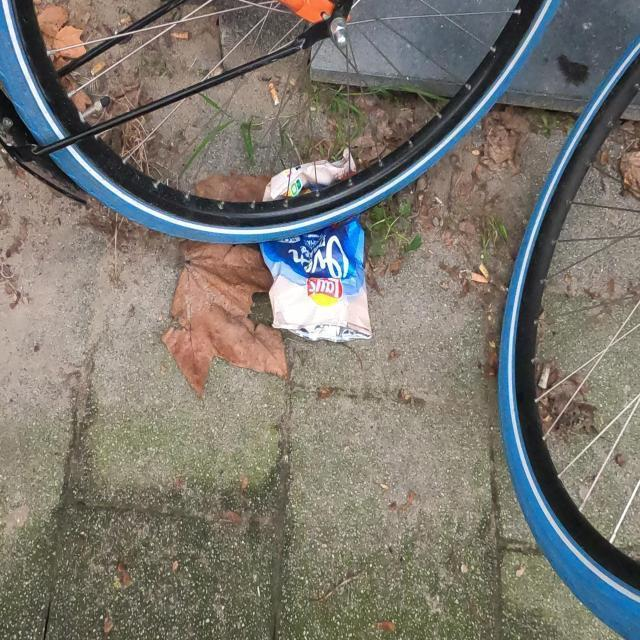Plastic: (258, 146, 372, 344)
